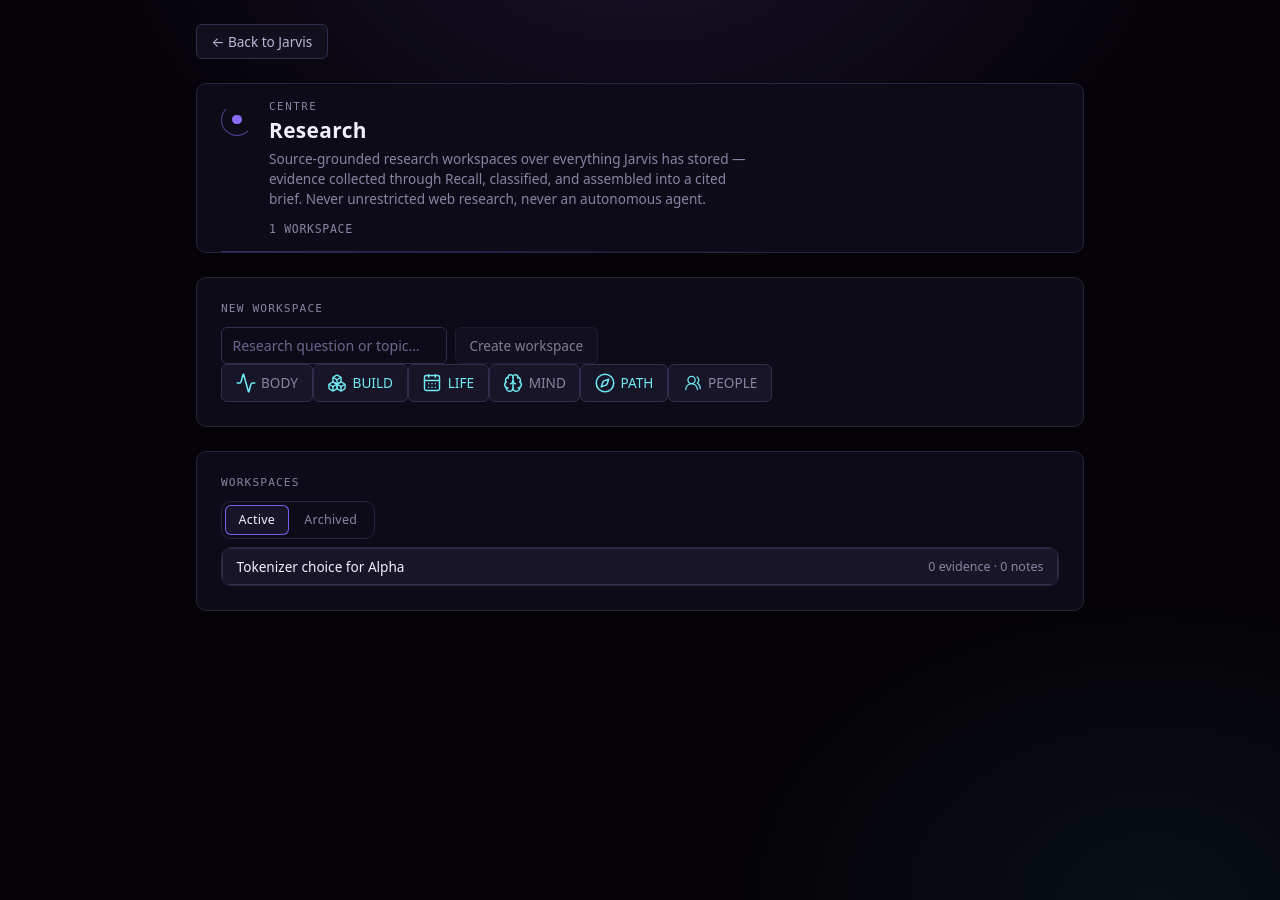
Scenario: ResearchCentre — workspace detail: evidence › searches for evidence, shows a no-results state, and a partial-failure notice
The image size is (1280, 900).
Click the text "Tokenizer choice for Alpha". click: [321, 566]
box: top-left (237, 556), bottom-right (404, 576)
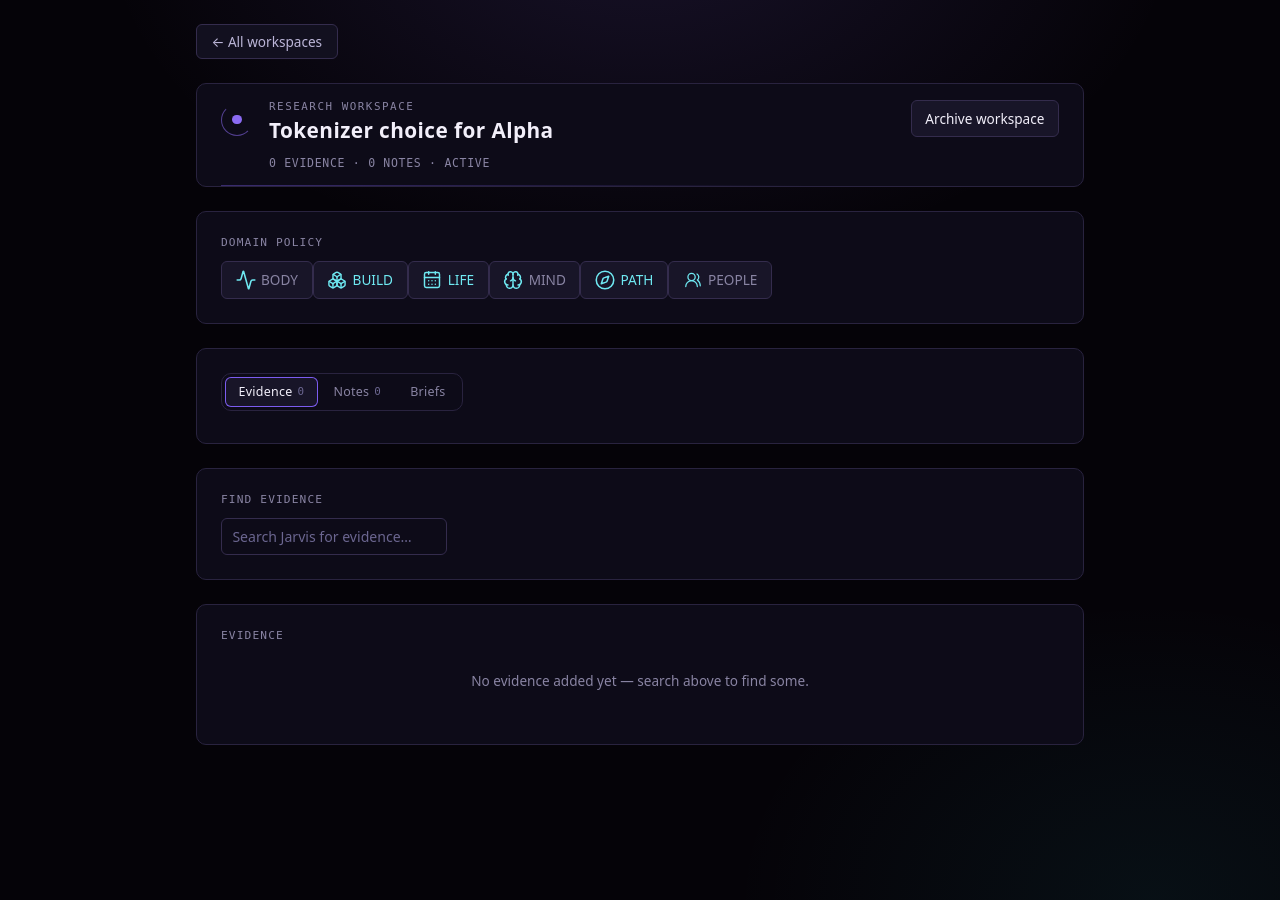
Type "tokenizer" into the field with placeholder "Search Jarvis for evidence…". click: [334, 536]
box: top-left (221, 518), bottom-right (447, 554)
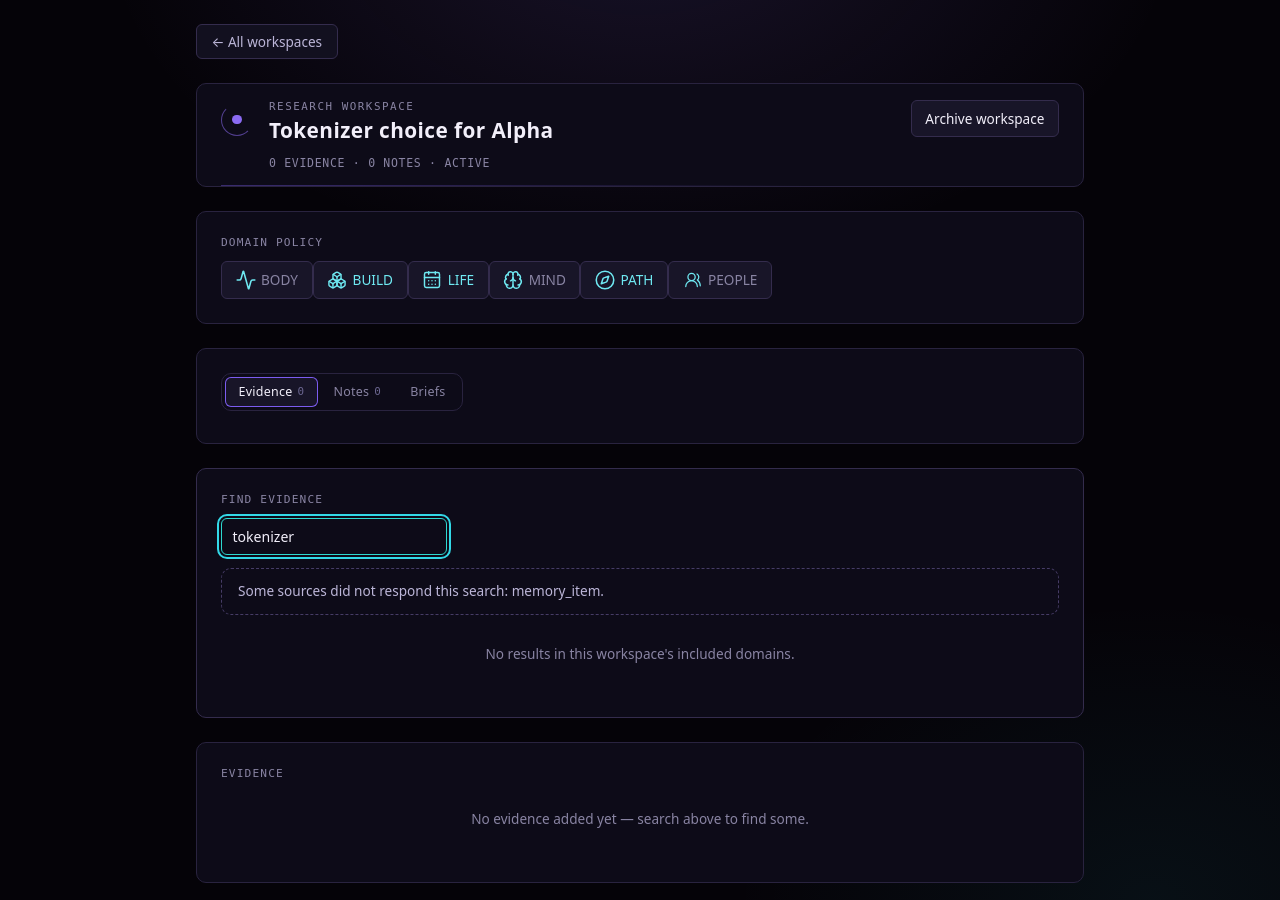
Check: the text "No results in this workspace's included domains." is shown, box top-left (486, 644), bottom-right (795, 663)
Check: the text "Some sources did not respond this search: memory_item." is shown, box top-left (221, 568), bottom-right (1059, 614)
